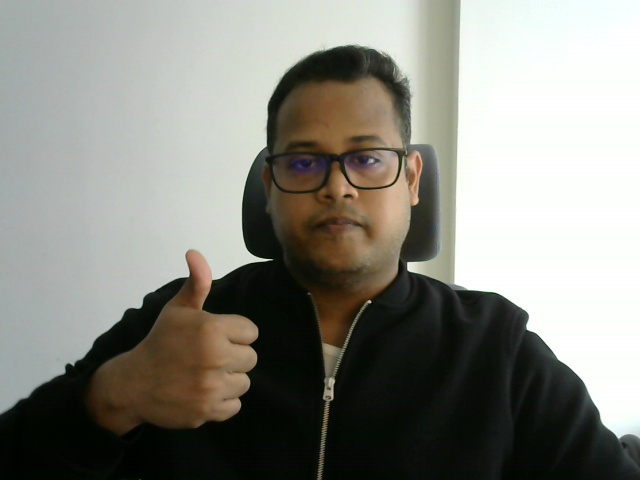ThumbsUp: (148, 249, 259, 430)
